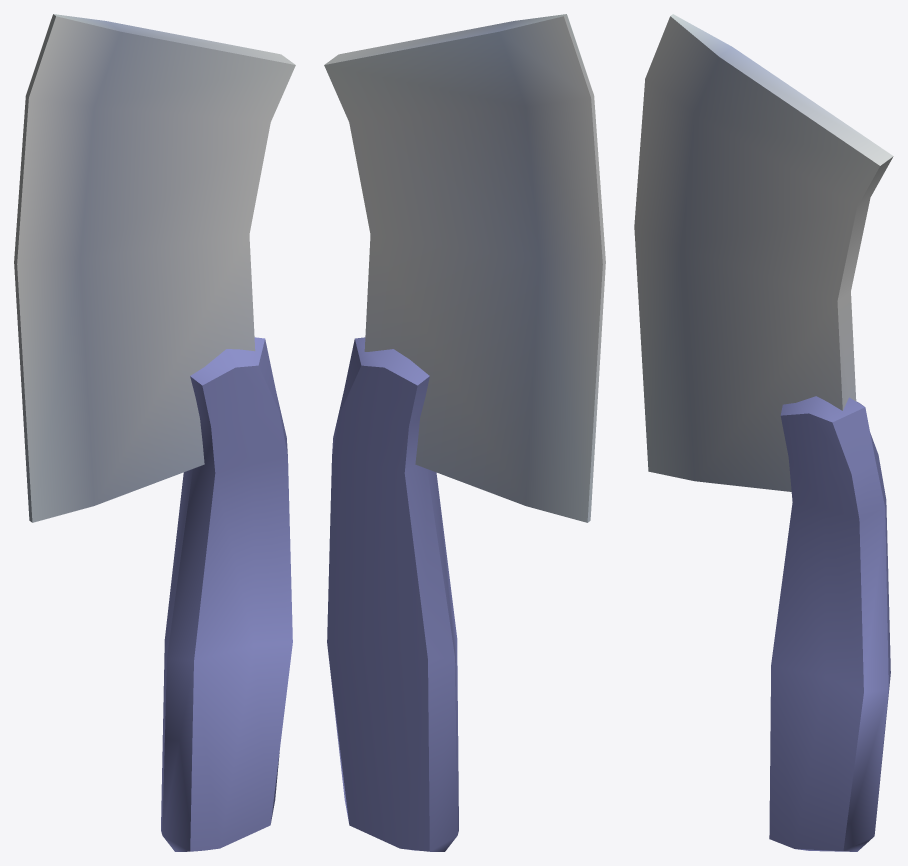
Rendered from knife1.fbx.
3 renders of one model, left to right at view 1: azimuth 30°, elevation 25°; view 2: azimuth 150°, elevation 25°; view 3: azimuth 330°, elevation 25°, orthographic. The views are drawn at different scales.
Parts seen in each view (by area): view 1: Blade, Handle; view 2: Blade, Handle; view 3: Blade, Handle.
Boxes of the visible parts, x1,y1,x2,y2 form: Blade: [14, 14, 295, 522]; Handle: [161, 337, 292, 851]; Blade: [324, 14, 605, 522]; Handle: [327, 337, 458, 851]; Blade: [634, 14, 893, 491]; Handle: [769, 396, 890, 851].
Bounding box in the file's own units: 54.28 × 164 × 10.82.
